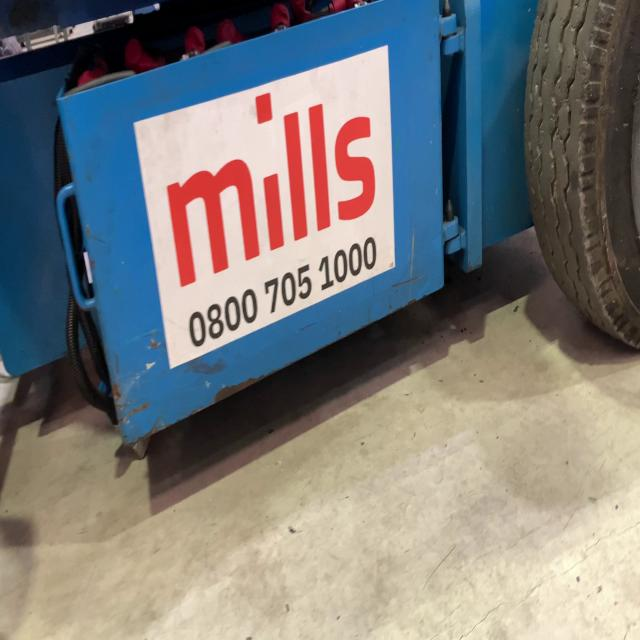Adesivos: (131, 39, 399, 374)
